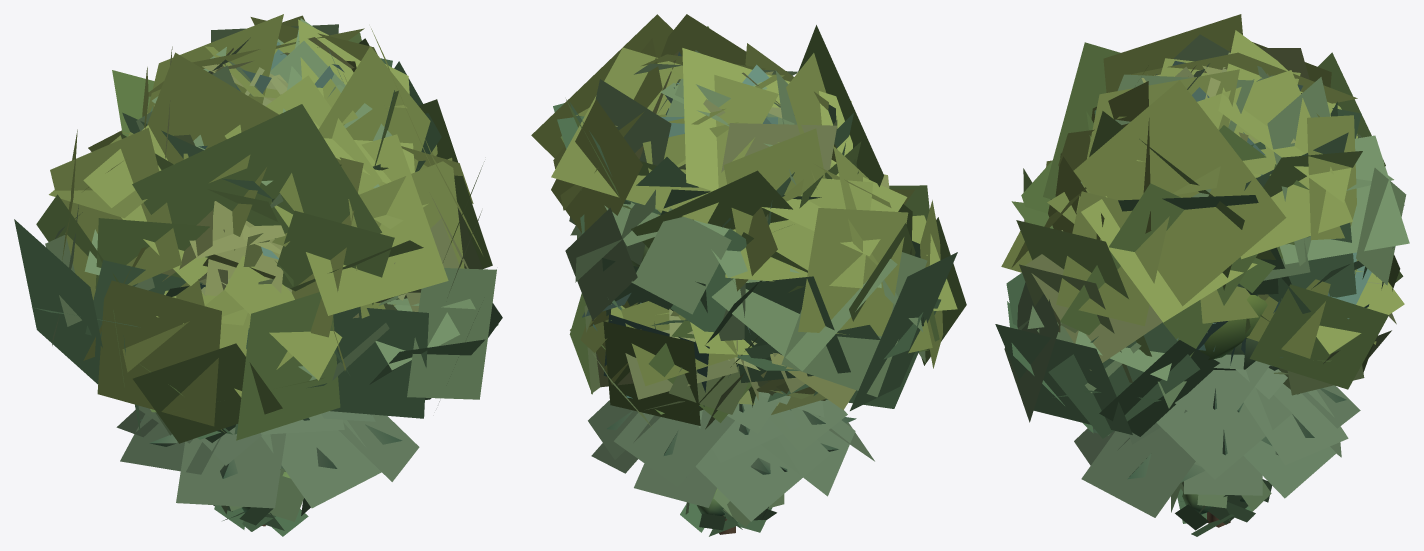
Rendered from south-outer-tree-meshes.glb.
3 views of the same model, side by side, from view 1: azimuth 30°, elevation 25°; view 2: azimuth 150°, elevation 25°; view 3: azimuth 270°, elevation 25° (orthographic). The views are drawn at different scales.
Parts seen in each view (by area): view 1: Sprigs0, Sprigs1, Sprigs5, Sprigs2, Sprigs4, ShrubLeaves, Crown5, Sprigs3; view 2: Sprigs0, Sprigs1, Sprigs5, Sprigs4, Sprigs2, ShrubLeaves, Sprigs3, Crown5; view 3: Sprigs0, Sprigs1, Sprigs5, Sprigs4, ShrubLeaves, FarDeciduous, Sprigs3, Crown5, Sprigs2.
Part boxes in pixels (x1,y1,x2,y2): Sprigs0: (36,14,492,443); Sprigs1: (14,18,502,442); Sprigs5: (116,405,419,508); Sprigs2: (154,37,356,295); Sprigs4: (165,46,482,318); ShrubLeaves: (213,468,310,536); Crown5: (140,418,402,478); Sprigs3: (198,42,344,289); Sprigs0: (531,14,966,425); Sprigs1: (553,50,957,410); Sprigs5: (588,390,874,521); Sprigs4: (584,72,837,429); Sprigs2: (615,51,889,414); ShrubLeaves: (680,489,784,536); Sprigs3: (582,52,777,407); Crown5: (607,403,856,477); Sprigs0: (1001,14,1404,389); Sprigs1: (995,34,1409,438); Sprigs5: (1074,354,1360,517); Sprigs4: (1019,48,1396,395); ShrubLeaves: (1171,479,1272,536); FarDeciduous: (1199,294,1267,527); Sprigs3: (1172,61,1383,365); Crown5: (1088,365,1346,482); Sprigs2: (1141,65,1301,300).
Bounding box in the file's own units: 9.99 × 11.86 × 9.03.
